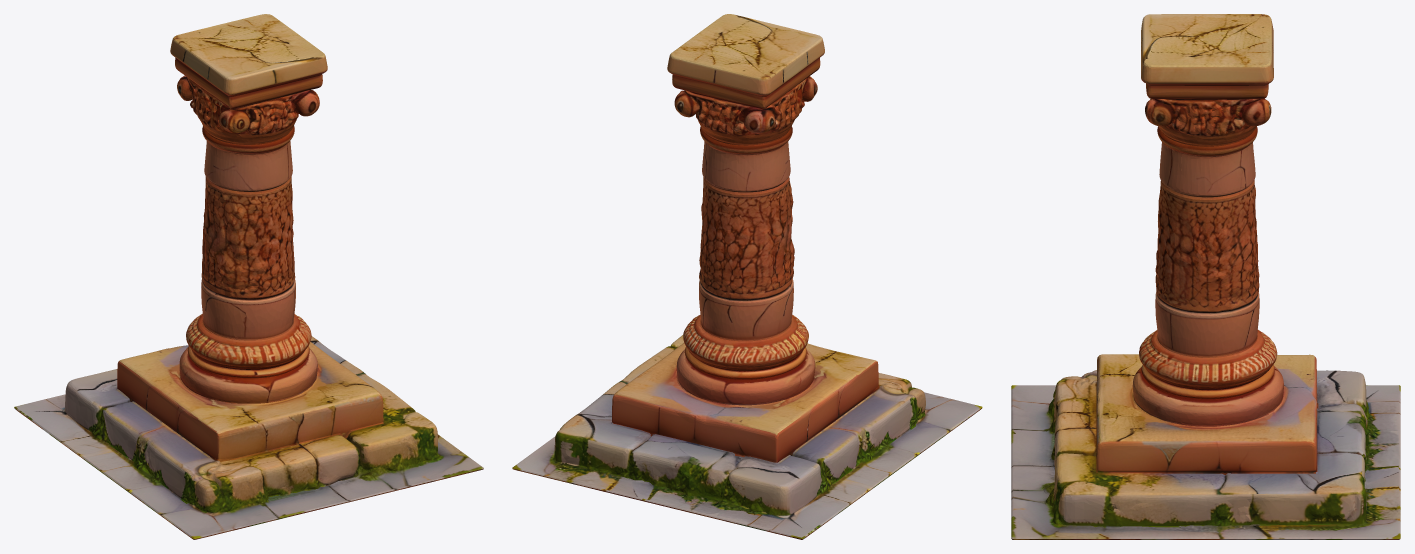
The model's file is carved-sandstone-pillar-shaft-optimized.glb.
3 renders of one model, left to right at view 1: azimuth 30°, elevation 25°; view 2: azimuth 150°, elevation 25°; view 3: azimuth 270°, elevation 25°, orthographic. The views are drawn at different scales.
Visible parts, largest first — view 1: b06a675c-dabc-4a8f-b800-756e5255304e_texturing; view 2: b06a675c-dabc-4a8f-b800-756e5255304e_texturing; view 3: b06a675c-dabc-4a8f-b800-756e5255304e_texturing.
Part boxes in pixels (x1=…): b06a675c-dabc-4a8f-b800-756e5255304e_texturing: x1=14, y1=14, x2=483, y2=539; b06a675c-dabc-4a8f-b800-756e5255304e_texturing: x1=512, y1=14, x2=982, y2=539; b06a675c-dabc-4a8f-b800-756e5255304e_texturing: x1=1011, y1=14, x2=1400, y2=539.
Size of the model in its own units: 2.32 by 3 by 2.49.
1 material, 1 textured.
